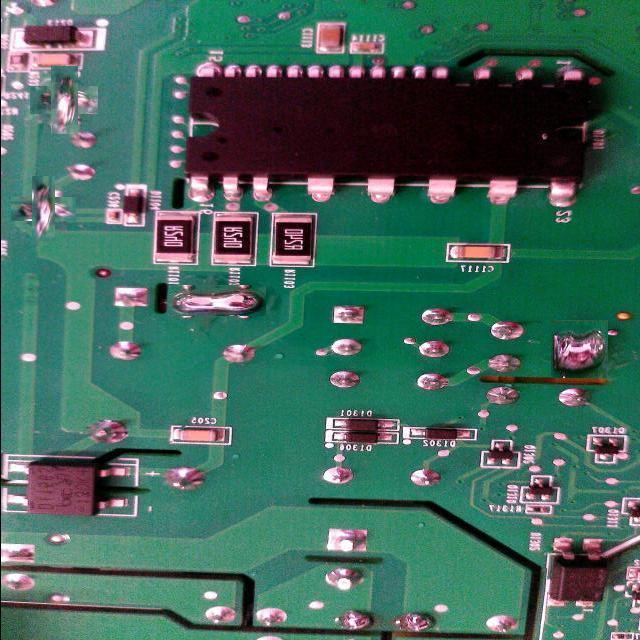Short_circuit: (551, 321, 608, 378), (169, 285, 266, 316), (40, 76, 88, 124), (21, 187, 66, 231)
